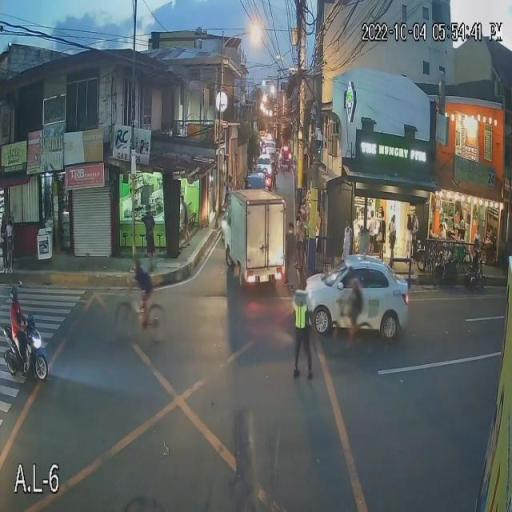helmet: (10, 282, 20, 296)
motorcycle: (2, 312, 52, 382)
rider: (8, 286, 30, 360)
